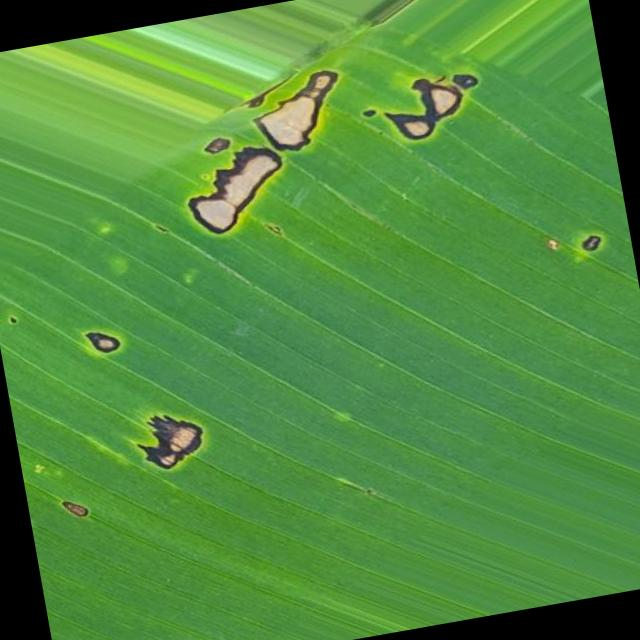Banana_Black_Sigatoka: (157, 11, 508, 261), (68, 274, 305, 515)
